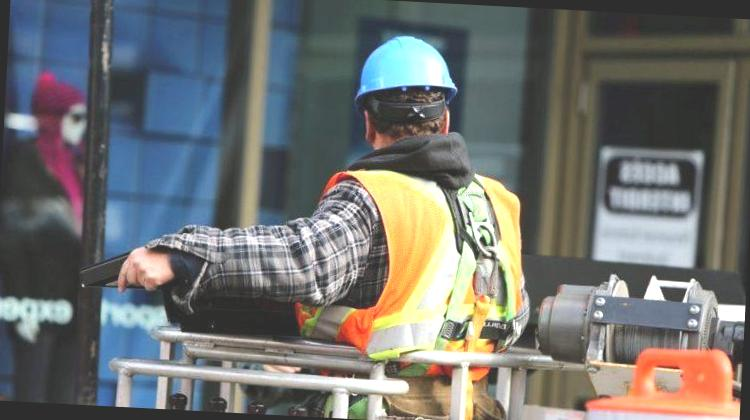helmet: (348, 31, 472, 104)
person: (310, 24, 546, 363)
